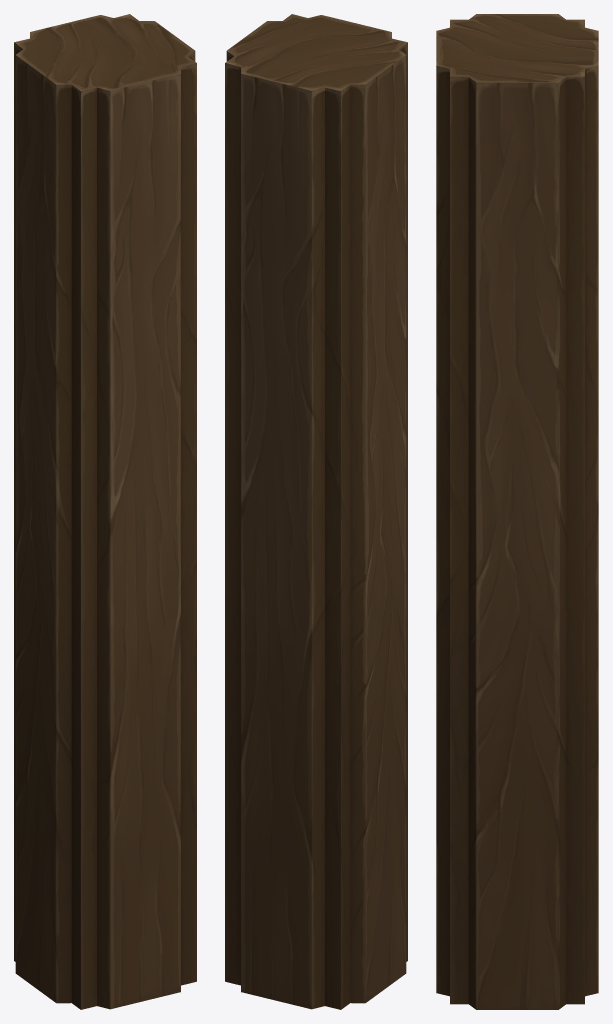
Rendered from Pillar_3_1.FBX.
3 views of the same model, side by side, from view 1: azimuth 30°, elevation 25°; view 2: azimuth 150°, elevation 25°; view 3: azimuth 270°, elevation 25° (orthographic).
Parts seen in each view (by area): view 1: Pillar_3_1; view 2: Pillar_3_1; view 3: Pillar_3_1.
Part boxes in pixels (x1,y1,x2,y2): Pillar_3_1: (14,14,196,1009); Pillar_3_1: (225,14,407,1009); Pillar_3_1: (436,14,598,1009).
Bounding box in the file's own units: 491 × 3101 × 491.
